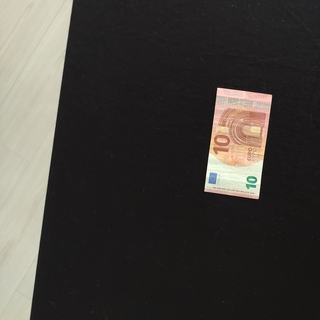10EUROFront: (204, 86, 272, 199)
